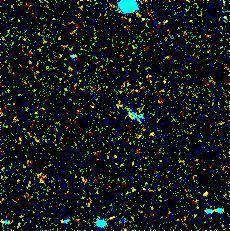star: (192, 177, 222, 207)
